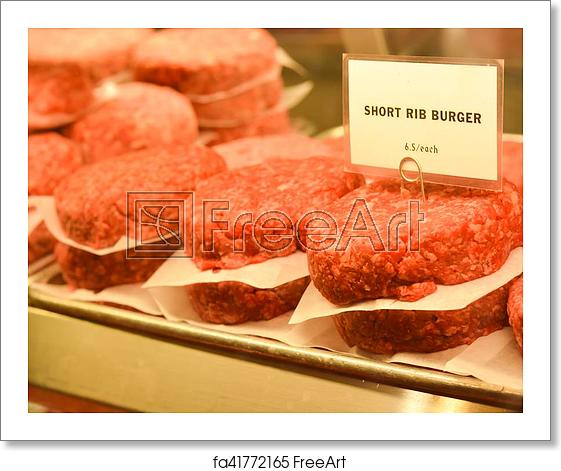ground_beef: (312, 166, 496, 296), (187, 157, 386, 257), (56, 68, 236, 178), (55, 140, 211, 252), (136, 28, 277, 106)
